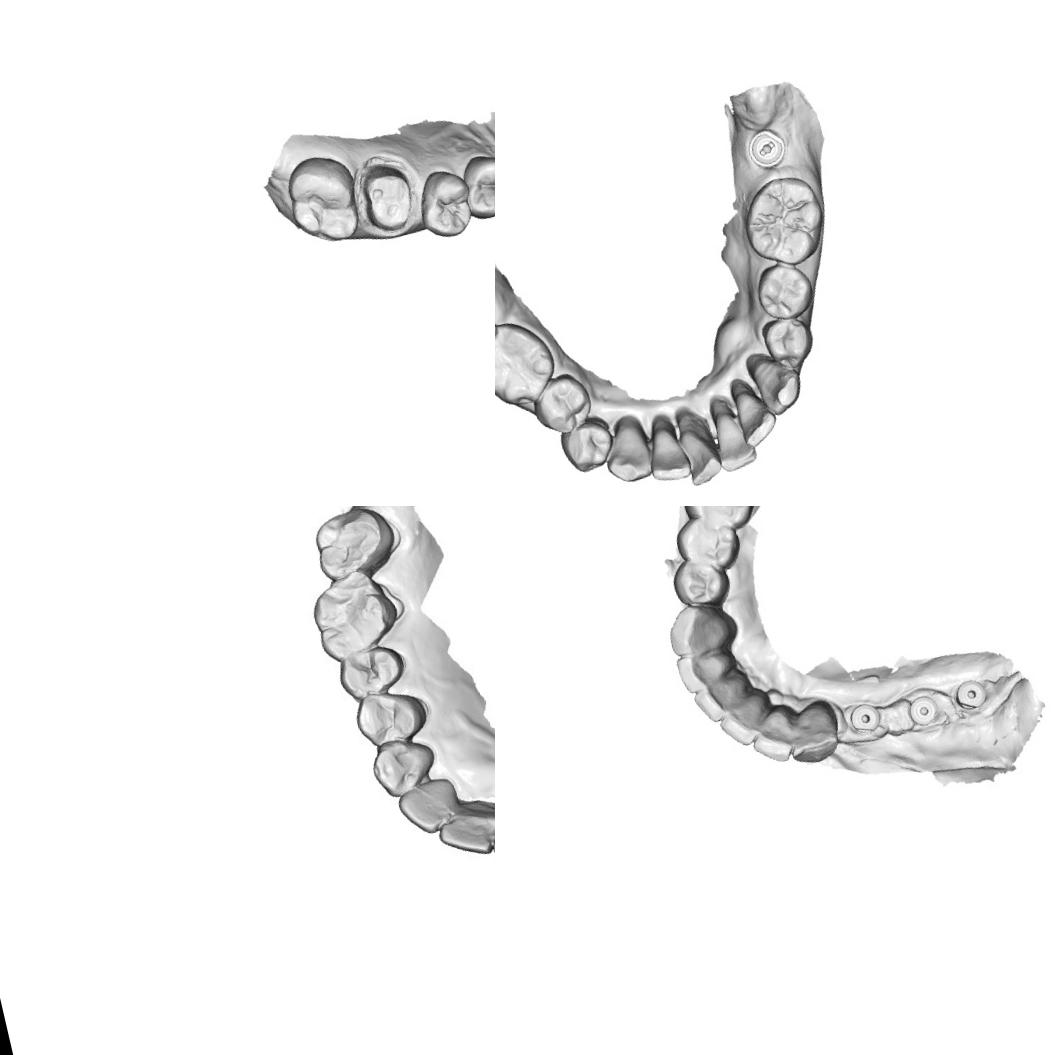canine: (364, 726, 447, 801), (743, 344, 809, 420), (662, 596, 739, 661), (594, 410, 658, 488), (780, 698, 845, 768)
crown: (355, 154, 422, 240)
implant: (950, 675, 991, 715), (904, 690, 943, 730), (845, 699, 884, 737)
implant_minus: (743, 124, 790, 173)
incisor: (703, 389, 760, 474), (670, 404, 725, 488), (638, 409, 696, 486), (727, 371, 782, 450), (744, 701, 801, 768), (397, 777, 462, 834), (713, 691, 775, 750), (689, 671, 754, 727), (674, 644, 742, 696), (436, 804, 495, 861)
molar: (734, 168, 834, 275), (303, 566, 410, 666), (279, 149, 364, 251), (495, 312, 558, 416), (308, 507, 386, 576), (674, 506, 768, 538)
premolar: (413, 164, 479, 244), (671, 506, 743, 577), (526, 368, 596, 441), (750, 256, 820, 325), (353, 685, 426, 750), (555, 412, 619, 478), (667, 551, 734, 613), (758, 311, 820, 374), (336, 644, 404, 701), (457, 148, 495, 223)
